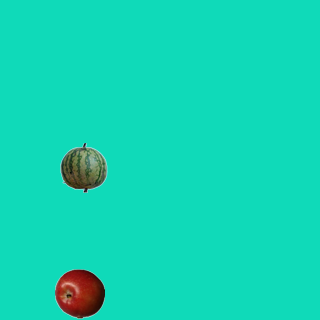Apple Braeburn: (54, 268, 104, 318)
Watermelon: (58, 142, 108, 192)
